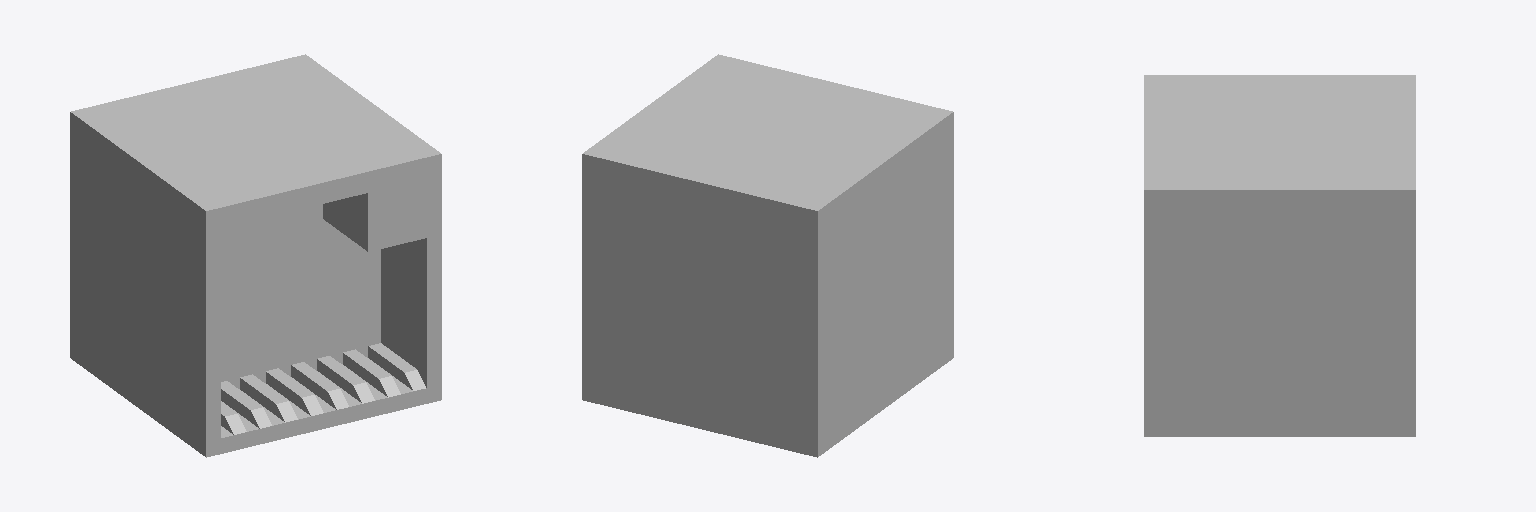
Rendered from NetworkPort.obj.
3 renders of one model, left to right at view 1: azimuth 30°, elevation 25°; view 2: azimuth 150°, elevation 25°; view 3: azimuth 270°, elevation 25°, orthographic.
Parts seen in each view (by area): view 1: Cube; view 2: Cube; view 3: Cube.
Part boxes in pixels (left/top/right/bottom): Cube: left=70, top=54, right=441, bottom=457; Cube: left=582, top=54, right=953, bottom=457; Cube: left=1144, top=75, right=1415, bottom=436.
Bounding box in the file's own units: 1 × 1 × 1.